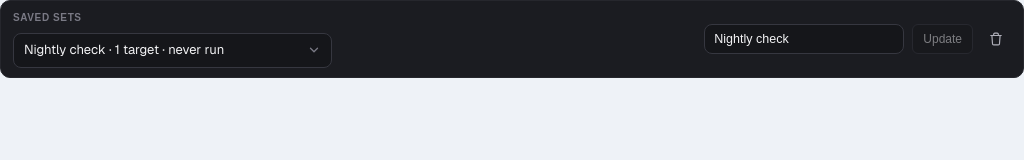
the name box › offers to save a new set beside the open one when the name is changed
The image size is (1024, 160).
Replace the text in the field named "Comparison set name" with "Weekly check" at (804, 39), box x1=704 y1=24 x2=904 y2=54
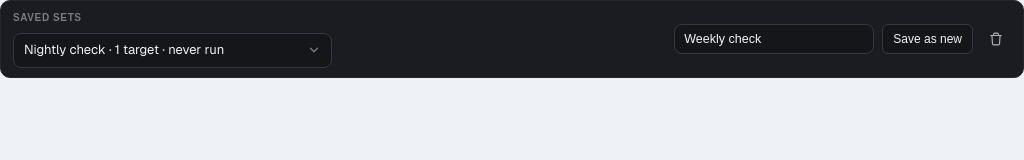
expect the button "Save as new" is shown: met, box x1=882 y1=24 x2=973 y2=54
